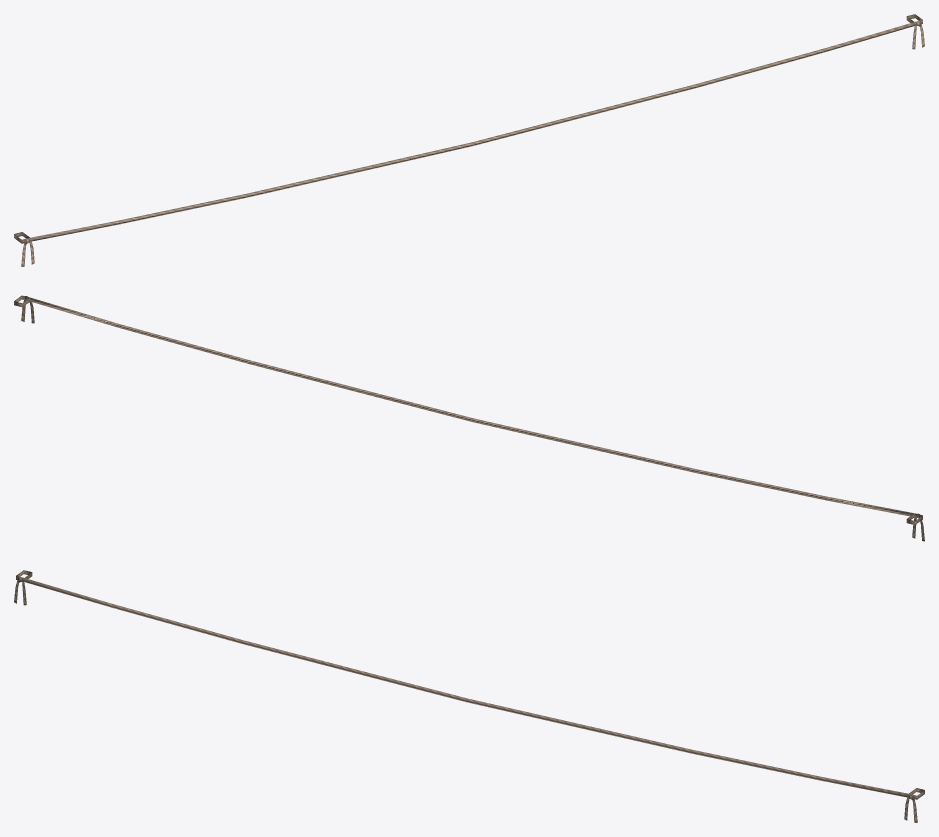
The model's file is jsf_2P_String_s04_02.fbx.
3 renders of one model, top to bottom at view 1: azimuth 30°, elevation 25°; view 2: azimuth 150°, elevation 25°; view 3: azimuth 330°, elevation 25°, orthographic.
Visible parts, largest first — view 1: jsf_2P_String_s04_02; view 2: jsf_2P_String_s04_02; view 3: jsf_2P_String_s04_02.
Part boxes in pixels (x1=…): jsf_2P_String_s04_02: x1=14, y1=14, x2=924, y2=266; jsf_2P_String_s04_02: x1=14, y1=295, x2=924, y2=541; jsf_2P_String_s04_02: x1=14, y1=570, x2=924, y2=822.
Bounding box in the file's own units: 343 × 9.85 × 5.92.
